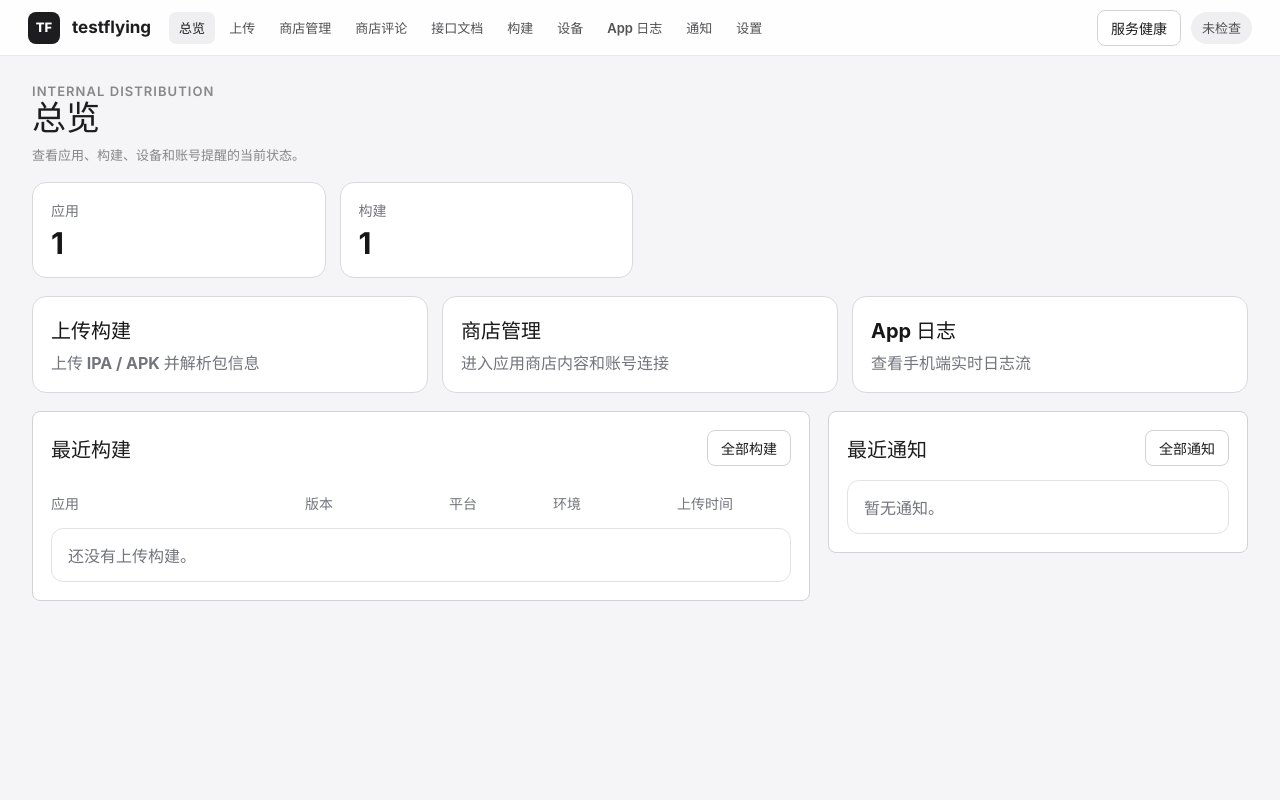
it: AdminApp › renders ordinary pages inside the React shell
Expected: the text "最近构建" is shown, [51,434,131,463]
Click the button "构建" at (520, 28), box [497,12,543,44]
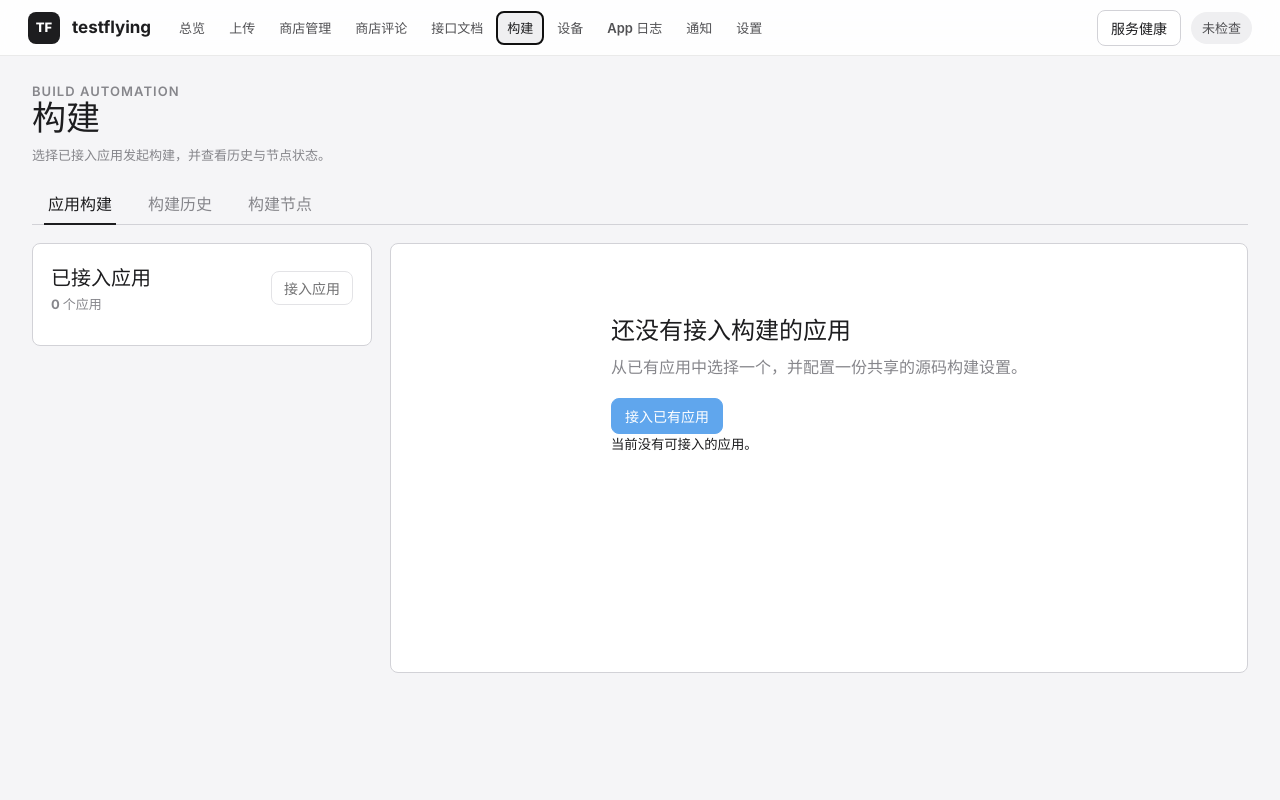
Result: the heading "还没有接入构建的应用" is shown at [611,311,851,346]
